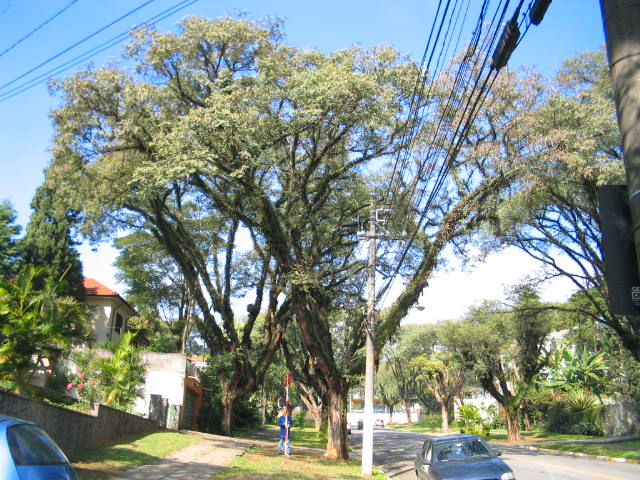crown: (125, 9, 577, 299)
stem: (315, 377, 361, 460)
stick: (281, 372, 294, 456)
tree: (123, 7, 577, 460)
